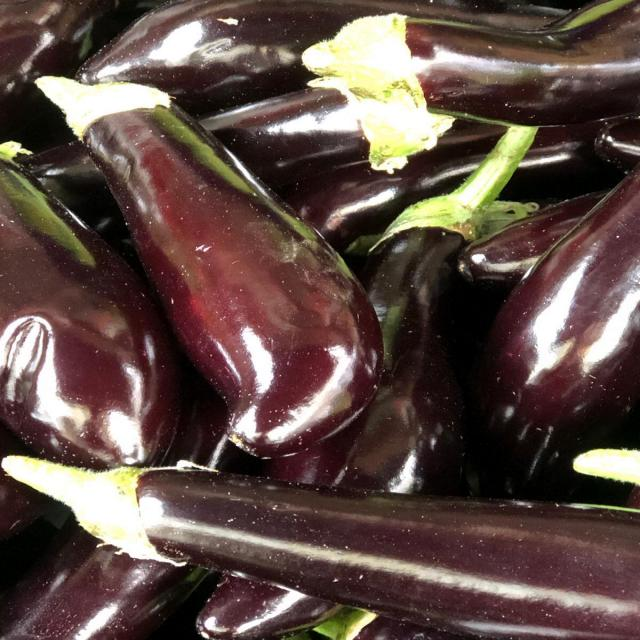eggplant: (27, 67, 396, 454), (2, 450, 640, 640)
